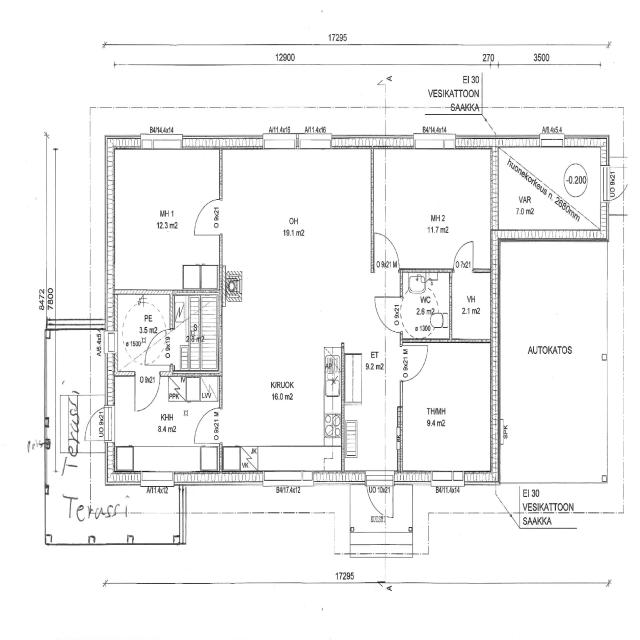door: (191, 194, 224, 239), (141, 327, 177, 367), (190, 404, 222, 448), (132, 370, 162, 415), (372, 292, 402, 333), (401, 341, 430, 382), (365, 472, 390, 519), (451, 236, 477, 274), (88, 404, 113, 442), (376, 232, 402, 267), (603, 163, 626, 202)
window: (260, 469, 316, 490), (411, 131, 458, 155), (296, 132, 335, 154), (260, 133, 300, 154), (429, 467, 466, 489), (140, 136, 184, 154), (138, 469, 176, 488), (538, 132, 567, 150)
zone: (221, 147, 400, 476), (109, 150, 221, 292), (376, 147, 492, 271), (400, 339, 494, 477), (108, 375, 224, 477), (493, 145, 607, 239), (47, 328, 98, 462), (114, 291, 178, 372), (399, 270, 452, 342), (449, 270, 493, 342)
